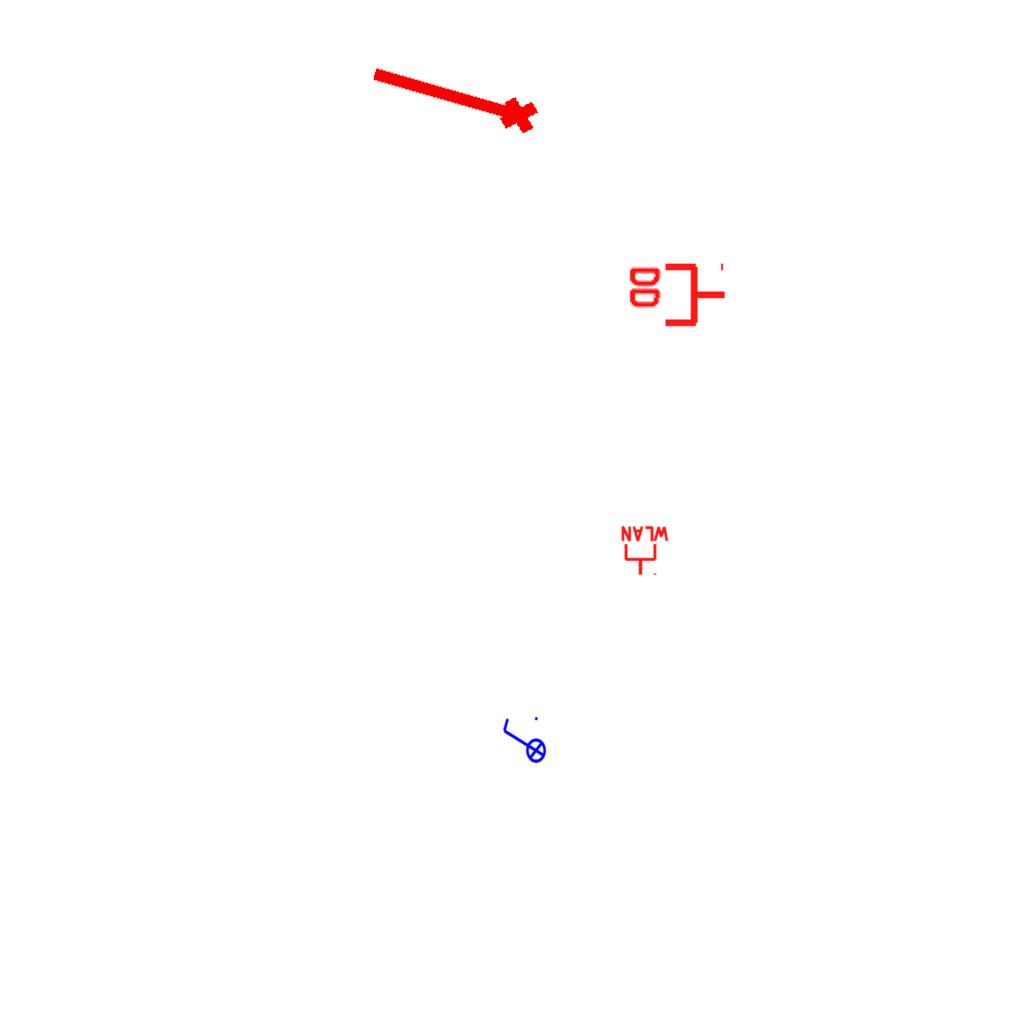ASR_Ansaugoeffnung: (362, 52, 544, 146)
Ausschalter_beleuchtet: (499, 714, 547, 770)
Datenanschluss_zweifach: (625, 262, 728, 331)
WLAN: (619, 525, 671, 577)
